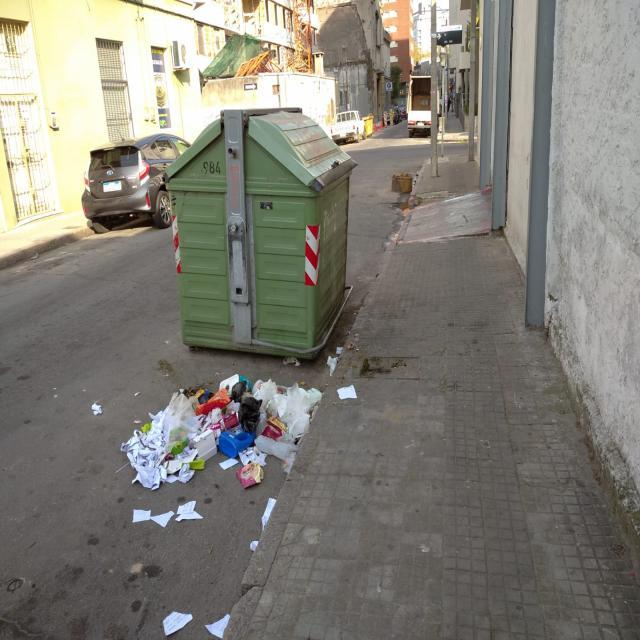garbage: (122, 368, 328, 490), (156, 604, 236, 640), (326, 338, 361, 413), (121, 500, 205, 530)
